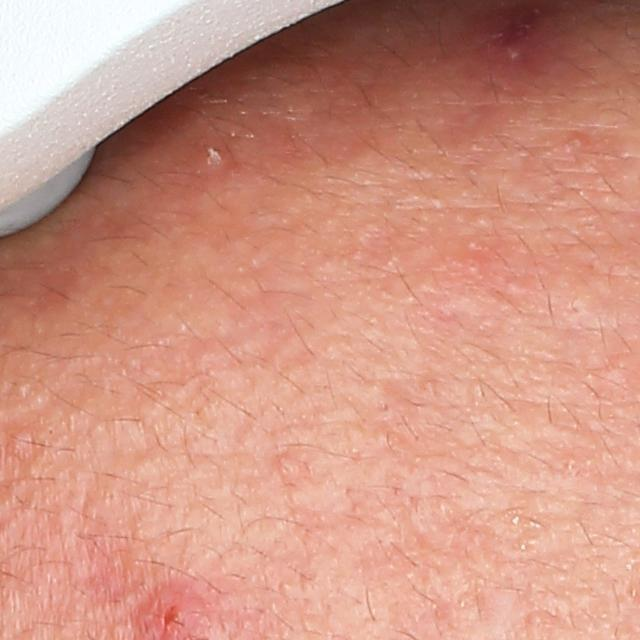comedo: (276, 453, 310, 484)
